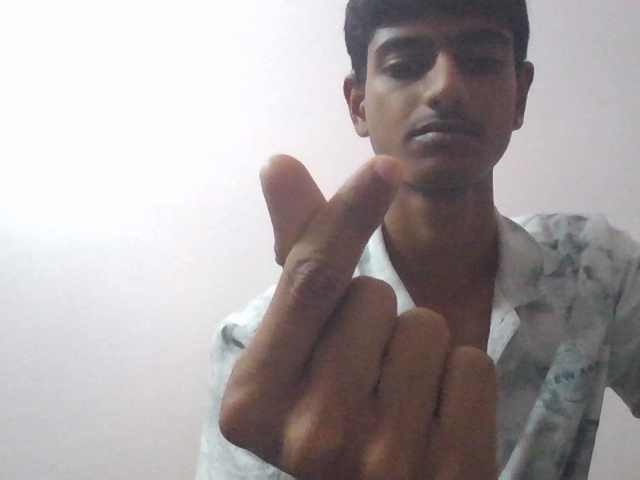iloveyou: (212, 144, 516, 480)
